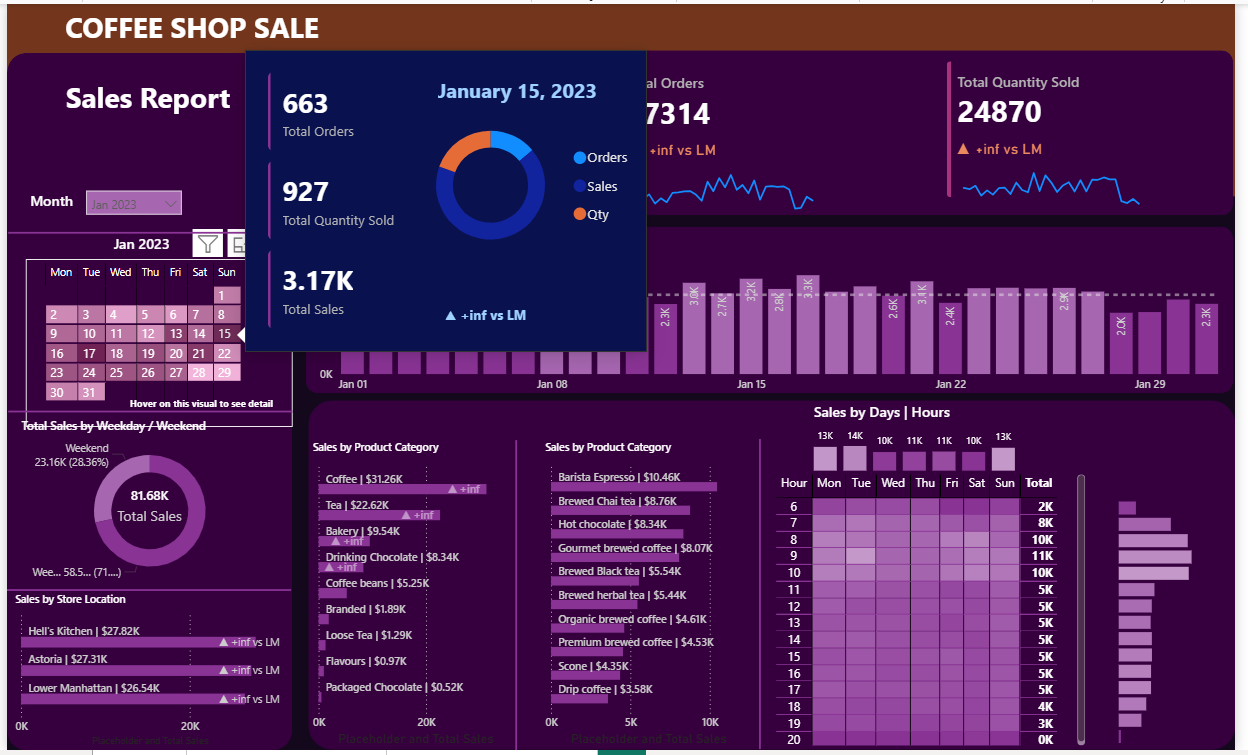

The page's visual inventory and layout, read from the dashboard file:
{"tool":"powerbi","page":{"name":"Page 1","canvas":[1400,850],"ordinal":0},"visuals":[{"type":"shape","box":[0,0,1400.3,219.4],"z":0},{"type":"shape","box":[0,55,325,795],"z":1000},{"type":"shape","box":[340,53.3,1056.7,188.3],"z":2000},{"type":"textbox","box":[61.7,0,325,65],"z":3000},{"type":"lineChart","fields":{"Y":["coffee_shop_sales.Total Sales"],"Category":["Date Table.Date Hierarchy.Date"]},"box":[703.3,155.4,229.5,85.2],"z":4000,"group":"g2"},{"type":"lineChart","fields":{"Y":["coffee_shop_sales.Total Sales"],"Category":["Date Table.Date Hierarchy.Date"]},"box":[374.9,157.1,229.5,85.2],"z":4000,"group":"g1"},{"type":"slicer","fields":{"Values":["Date Table.Month Year"]},"box":[85,208.3,118.3,45],"z":4000},{"type":"group","id":"g1","title":"Group 1","box":[348.3,51.7,266.7,190],"z":5000},{"type":"lineChart","fields":{"Category":["Date Table.Date Hierarchy.Date"],"Y":["coffee_shop_sales.Total Quantity Sold"]},"box":[1074.2,153.7,229.5,85.2],"z":5000,"group":"g3"},{"type":"group","id":"g2","title":"Group 1","box":[676.7,50,266.7,190],"z":6000},{"type":"cardVisual","fields":{"Data":["coffee_shop_sales.Total Orders"]},"box":[676.7,50,265.6,189.1],"z":6000,"group":"g2"},{"type":"cardVisual","fields":{"Data":["coffee_shop_sales.Total Sales"]},"box":[348.3,51.7,265.6,189.1],"z":6000,"group":"g1"},{"type":"group","id":"g3","title":"Group 2","box":[1053.3,48.3,266.7,190],"z":7000},{"type":"cardVisual","fields":{"Data":["coffee_shop_sales.Total Quantity Sold"]},"box":[1053.3,48.3,265.6,189.1],"z":8000,"group":"g3"},{"type":"pivotTable","fields":{"Rows":["Date Table.Week Number"],"Columns":["Date Table.Day Name"],"Values":["Min(Date Table.Day Number)"]},"box":[21.1,291,305,190],"z":8000},{"type":"cardVisual","fields":{"Data":["Min(Date Table.Month Year)"]},"box":[92.1,241.3,152.4,61.9],"z":9000},{"type":"cardVisual","fields":{"Data":["coffee_shop_sales.Foot Note"]},"box":[111.2,425.9,245.4,56.3],"z":10000},{"type":"shape","box":[1.6,457.1,323.8,14.3],"z":11000},{"type":"shape","box":[1.6,254,323.8,14.3],"z":12000},{"type":"donutChart","fields":{"Category":["Date Table.Weekday / Weekend"],"Y":["coffee_shop_sales.Total Sales"]},"box":[11.5,472.1,303.2,194.9],"z":13000},{"type":"cardVisual","fields":{"Data":["coffee_shop_sales.Total Sales"]},"box":[85.2,495.2,154.5,151.6],"z":14000},{"type":"clusteredBarChart","title":"Sales by Store Location","fields":{"Category":["coffee_shop_sales.store_location"],"Y":["coffee_shop_sales.Placeholder","coffee_shop_sales.Total Sales"]},"box":[3.8,668.8,322.5,181.2],"z":15000},{"type":"shape","box":[0,661.2,323.8,13.8],"z":16000},{"type":"shape","box":[340,253.3,1056.7,190],"z":17000},{"type":"columnChart","title":"Sales Trend Over the Period","fields":{"Category":["coffee_shop_sales.transaction_date"],"Y":["coffee_shop_sales.Total Sales"]},"box":[351.7,253.3,1038.3,198.3],"z":18000},{"type":"shape","box":[343.3,451.7,1056.7,398.3],"z":19000},{"type":"clusteredBarChart","title":"Sales by Product Category","fields":{"Y":["coffee_shop_sales.Placeholder","coffee_shop_sales.Total Sales"],"Category":["coffee_shop_sales.product_category"]},"box":[343.3,496.7,250,353.3],"z":20000},{"type":"shape","box":[566.7,496.7,26.7,353.3],"z":21000},{"type":"clusteredBarChart","title":"Sales by Product Category","fields":{"Y":["coffee_shop_sales.Placeholder","coffee_shop_sales.Total Sales"],"Category":["coffee_shop_sales.product_type"]},"box":[608.3,496.7,250,353.3],"z":22000},{"type":"shape","box":[845,495,26.7,353.3],"z":23000},{"type":"pivotTable","fields":{"Rows":["coffee_shop_sales.Hour"],"Columns":["Date Table.Day Name"],"Values":["coffee_shop_sales.Total Sales"]},"box":[871.7,531.7,361.7,318.3],"z":24000},{"type":"barChart","fields":{"Category":["coffee_shop_sales.Hour"],"Y":["coffee_shop_sales.Total Sales"]},"box":[1261.7,553.3,128.3,293.3],"z":25000},{"type":"columnChart","title":"Sales by Days | Hours","fields":{"Y":["coffee_shop_sales.Total Sales"],"Category":["Date Table.Day Name"]},"box":[915,453.3,240,85],"z":26000},{"type":"textbox","box":[21.7,208.3,90,45],"z":27000},{"type":"textbox","box":[21.7,80,278.3,65],"z":28000}]}

Visuals, with their boxes in screenshot pixels (x1, y1, x2, y2), scaled from the page's 1400x850 canvas onto the 1248x755 screenshot:
shape: pyautogui.locateOnScreen(0, 0, 1247, 195)
shape: pyautogui.locateOnScreen(0, 49, 290, 754)
shape: pyautogui.locateOnScreen(303, 47, 1245, 215)
textbox: pyautogui.locateOnScreen(55, 0, 345, 58)
lineChart - coffee_shop_sales.Total Sales x Date Table.Date Hierarchy.Date: pyautogui.locateOnScreen(627, 138, 832, 214)
lineChart - coffee_shop_sales.Total Sales x Date Table.Date Hierarchy.Date: pyautogui.locateOnScreen(334, 140, 539, 215)
slicer - Date Table.Month Year: pyautogui.locateOnScreen(76, 185, 181, 225)
"Group 1" group: pyautogui.locateOnScreen(310, 46, 548, 215)
lineChart - Date Table.Date Hierarchy.Date x coffee_shop_sales.Total Quantity Sold: pyautogui.locateOnScreen(958, 137, 1162, 212)
"Group 1" group: pyautogui.locateOnScreen(603, 44, 841, 213)
cardVisual - coffee_shop_sales.Total Orders: pyautogui.locateOnScreen(603, 44, 840, 212)
cardVisual - coffee_shop_sales.Total Sales: pyautogui.locateOnScreen(310, 46, 547, 214)
"Group 2" group: pyautogui.locateOnScreen(939, 43, 1177, 212)
cardVisual - coffee_shop_sales.Total Quantity Sold: pyautogui.locateOnScreen(939, 43, 1176, 211)
pivotTable - Date Table.Week Number x Date Table.Day Name: pyautogui.locateOnScreen(19, 258, 291, 427)
cardVisual - Min(Date Table.Month Year): pyautogui.locateOnScreen(82, 214, 218, 269)
cardVisual - coffee_shop_sales.Foot Note: pyautogui.locateOnScreen(99, 378, 318, 428)
shape: pyautogui.locateOnScreen(1, 406, 290, 419)
shape: pyautogui.locateOnScreen(1, 226, 290, 238)
donutChart - Date Table.Weekday / Weekend x coffee_shop_sales.Total Sales: pyautogui.locateOnScreen(10, 419, 281, 592)
cardVisual - coffee_shop_sales.Total Sales: pyautogui.locateOnScreen(76, 440, 214, 575)
"Sales by Store Location" clusteredBarChart: pyautogui.locateOnScreen(3, 594, 291, 754)
shape: pyautogui.locateOnScreen(0, 587, 289, 600)
shape: pyautogui.locateOnScreen(303, 225, 1245, 394)
"Sales Trend Over the Period" columnChart: pyautogui.locateOnScreen(314, 225, 1239, 401)
shape: pyautogui.locateOnScreen(306, 401, 1247, 754)
"Sales by Product Category" clusteredBarChart: pyautogui.locateOnScreen(306, 441, 529, 754)
shape: pyautogui.locateOnScreen(505, 441, 529, 754)
"Sales by Product Category" clusteredBarChart: pyautogui.locateOnScreen(542, 441, 765, 754)
shape: pyautogui.locateOnScreen(753, 440, 777, 753)
pivotTable - coffee_shop_sales.Hour x Date Table.Day Name: pyautogui.locateOnScreen(777, 472, 1099, 754)
barChart - coffee_shop_sales.Hour x coffee_shop_sales.Total Sales: pyautogui.locateOnScreen(1125, 491, 1239, 752)
"Sales by Days | Hours" columnChart: pyautogui.locateOnScreen(816, 403, 1030, 478)
textbox: pyautogui.locateOnScreen(19, 185, 100, 225)
textbox: pyautogui.locateOnScreen(19, 71, 267, 129)
